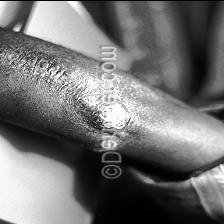Unclassified: (4, 43, 66, 79), (125, 104, 167, 127)
